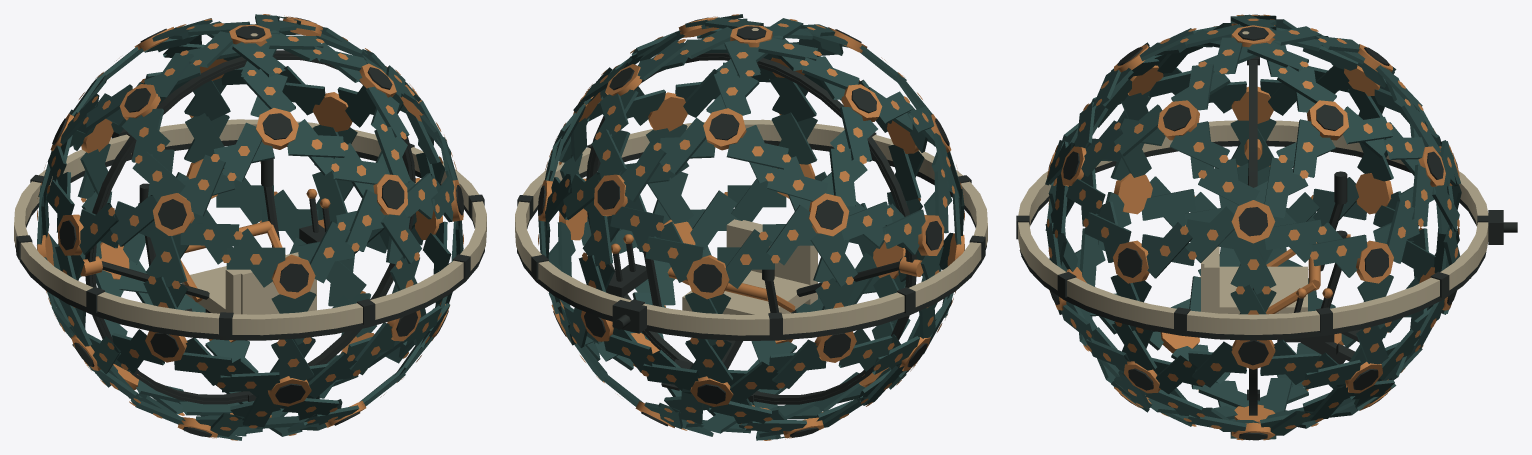
Rendered from shell_neutral.glb.
3 views of the same model, side by side, from view 1: azimuth 30°, elevation 25°; view 2: azimuth 150°, elevation 25°; view 3: azimuth 270°, elevation 25° (orthographic).
Parts seen in each view (by area): view 1: Core, WeaponRing, Pod, Gyro, GyroInner; view 2: Core, WeaponRing, Pod, Gyro, GyroInner; view 3: Core, WeaponRing, Pod, Gyro.
Part boxes in pixels (x1=…): Core: x1=37, y1=14, x2=463, y2=440; WeaponRing: x1=14, y1=119, x2=486, y2=340; Pod: x1=80, y1=159, x2=420, y2=314; Gyro: x1=85, y1=50, x2=415, y2=404; GyroInner: x1=92, y1=56, x2=412, y2=401; Core: x1=537, y1=14, x2=964, y2=440; WeaponRing: x1=515, y1=119, x2=987, y2=340; Pod: x1=583, y1=178, x2=923, y2=390; Gyro: x1=586, y1=53, x2=916, y2=404; GyroInner: x1=589, y1=56, x2=909, y2=402; Core: x1=1045, y1=14, x2=1461, y2=440; WeaponRing: x1=1016, y1=120, x2=1517, y2=340; Pod: x1=1201, y1=139, x2=1360, y2=364; Gyro: x1=1249, y1=59, x2=1257, y2=415.
Size of the model in its own units: 2.16 by 1.97 by 2.3.
